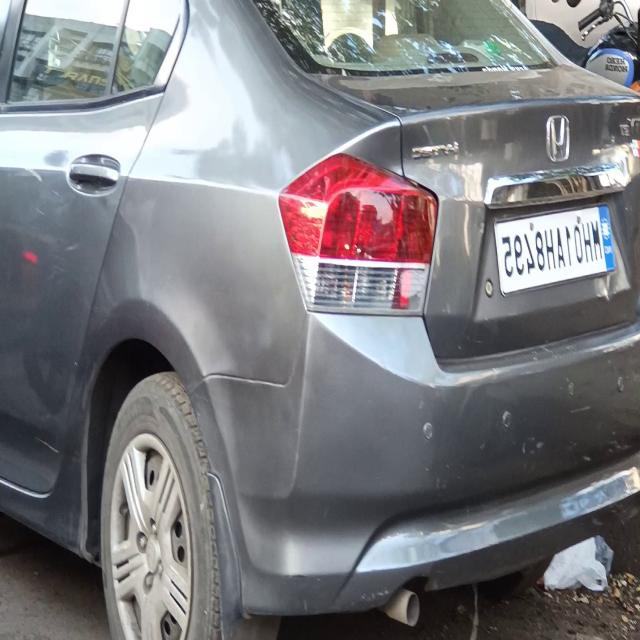license_plate: (491, 200, 618, 305)
